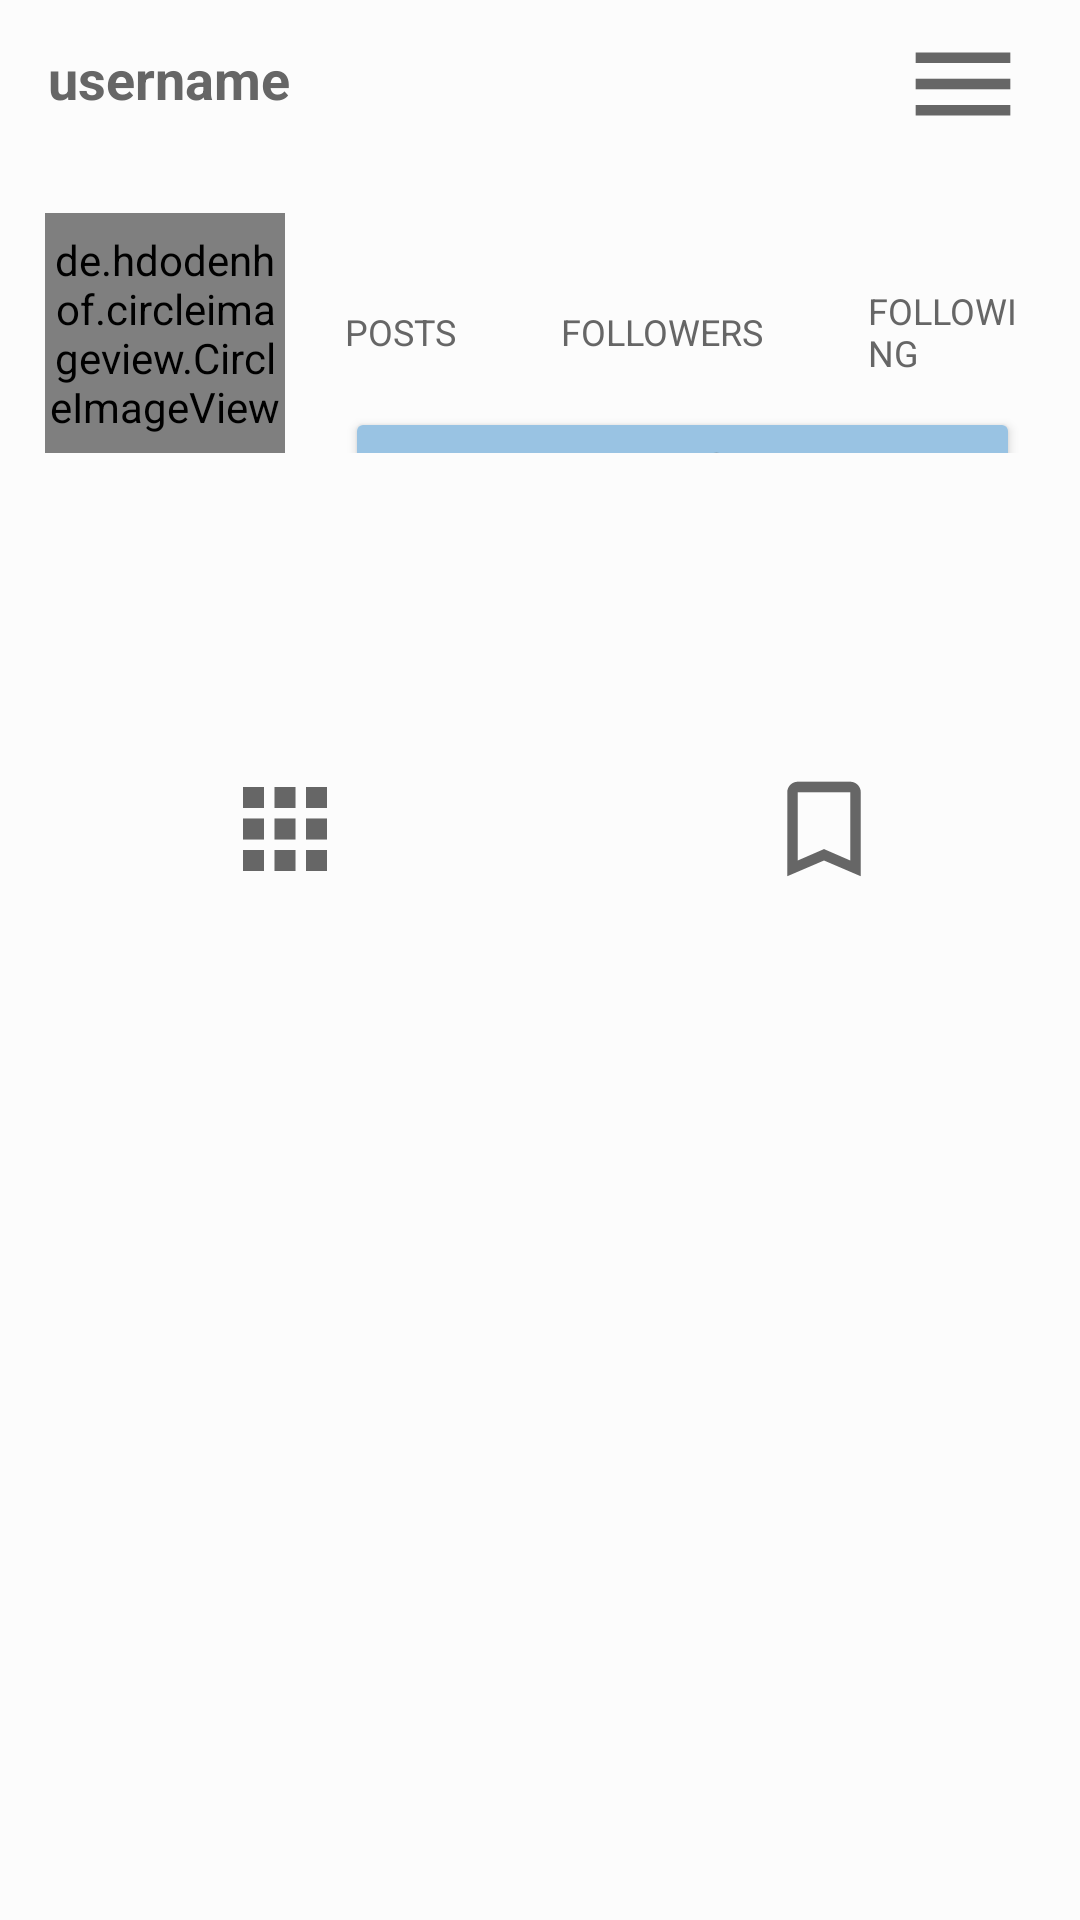

Screen size 1080*1920. Icon name, then its box in pixels as (x1, y1, x2, y2):
photos: (243, 787, 327, 871)
